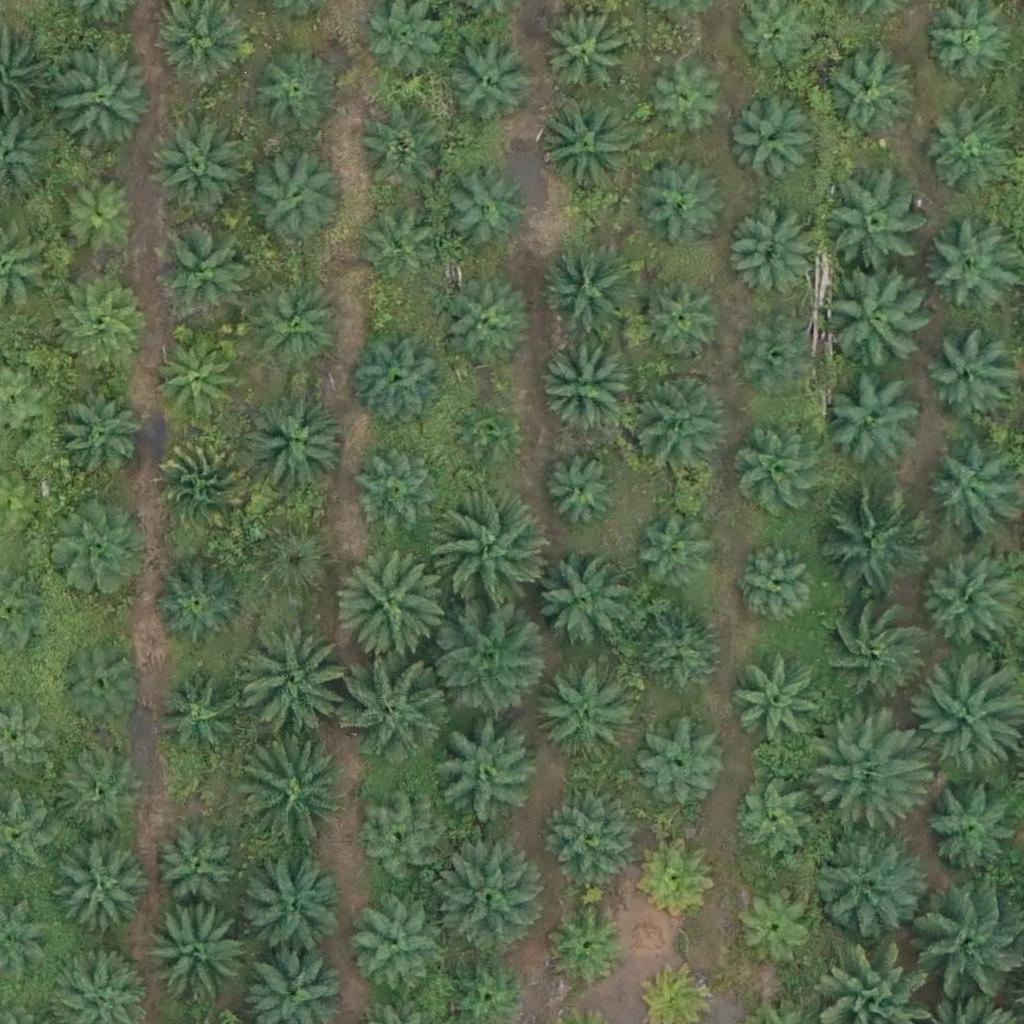Kelapa_Sawit: (235, 628, 348, 742), (818, 266, 931, 380), (430, 605, 543, 718), (431, 715, 544, 828), (432, 838, 545, 951), (341, 651, 454, 764), (337, 547, 450, 660), (231, 742, 344, 855), (818, 490, 930, 604), (437, 495, 549, 609), (810, 825, 922, 938), (810, 710, 922, 823), (814, 597, 926, 710), (918, 771, 1018, 872), (830, 371, 930, 472), (729, 655, 829, 756), (624, 371, 724, 472), (533, 659, 633, 760), (351, 331, 451, 432), (243, 388, 343, 489), (240, 858, 340, 959), (147, 906, 247, 1007), (53, 269, 153, 370), (56, 45, 156, 146), (152, 217, 252, 318), (245, 140, 345, 241), (243, 273, 343, 374), (537, 99, 637, 200), (540, 239, 640, 340), (815, 49, 915, 150), (830, 174, 930, 275), (913, 553, 1013, 653), (538, 338, 638, 438), (532, 554, 632, 654), (47, 500, 147, 600), (156, 435, 256, 535), (147, 119, 247, 219), (921, 212, 1021, 312), (731, 541, 819, 630), (923, 331, 1011, 419), (924, 447, 1012, 535), (739, 431, 827, 519), (633, 504, 721, 592), (245, 521, 333, 609), (57, 637, 145, 725), (150, 667, 238, 755), (728, 881, 816, 969), (352, 909, 440, 997), (354, 452, 442, 540), (150, 337, 238, 425), (155, 560, 243, 648), (155, 817, 243, 905), (251, 51, 339, 139), (358, 109, 446, 197), (447, 39, 535, 127), (439, 168, 527, 256), (922, 2, 1010, 90), (636, 609, 723, 697), (731, 779, 818, 867), (546, 789, 633, 877), (633, 720, 720, 808), (358, 798, 445, 886), (50, 388, 137, 476), (56, 746, 143, 834), (59, 847, 146, 935), (58, 168, 145, 256), (356, 204, 443, 292), (446, 284, 533, 372), (544, 12, 631, 100), (639, 276, 726, 364), (639, 158, 726, 246), (646, 54, 733, 142), (732, 103, 819, 191), (729, 211, 816, 299), (921, 109, 1008, 197), (543, 454, 618, 530), (743, 321, 818, 397), (552, 905, 627, 980), (642, 841, 717, 916), (454, 398, 516, 461)
